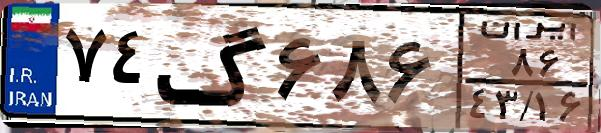1: (535, 70, 560, 125)
3: (495, 70, 520, 125)
4: (110, 28, 156, 98), (470, 70, 495, 125)
6: (270, 28, 330, 110), (385, 28, 445, 110), (560, 70, 590, 125), (537, 27, 568, 80)
7: (57, 26, 110, 100)
8: (330, 28, 385, 110), (508, 27, 537, 80)
گ: (156, 12, 270, 120)
